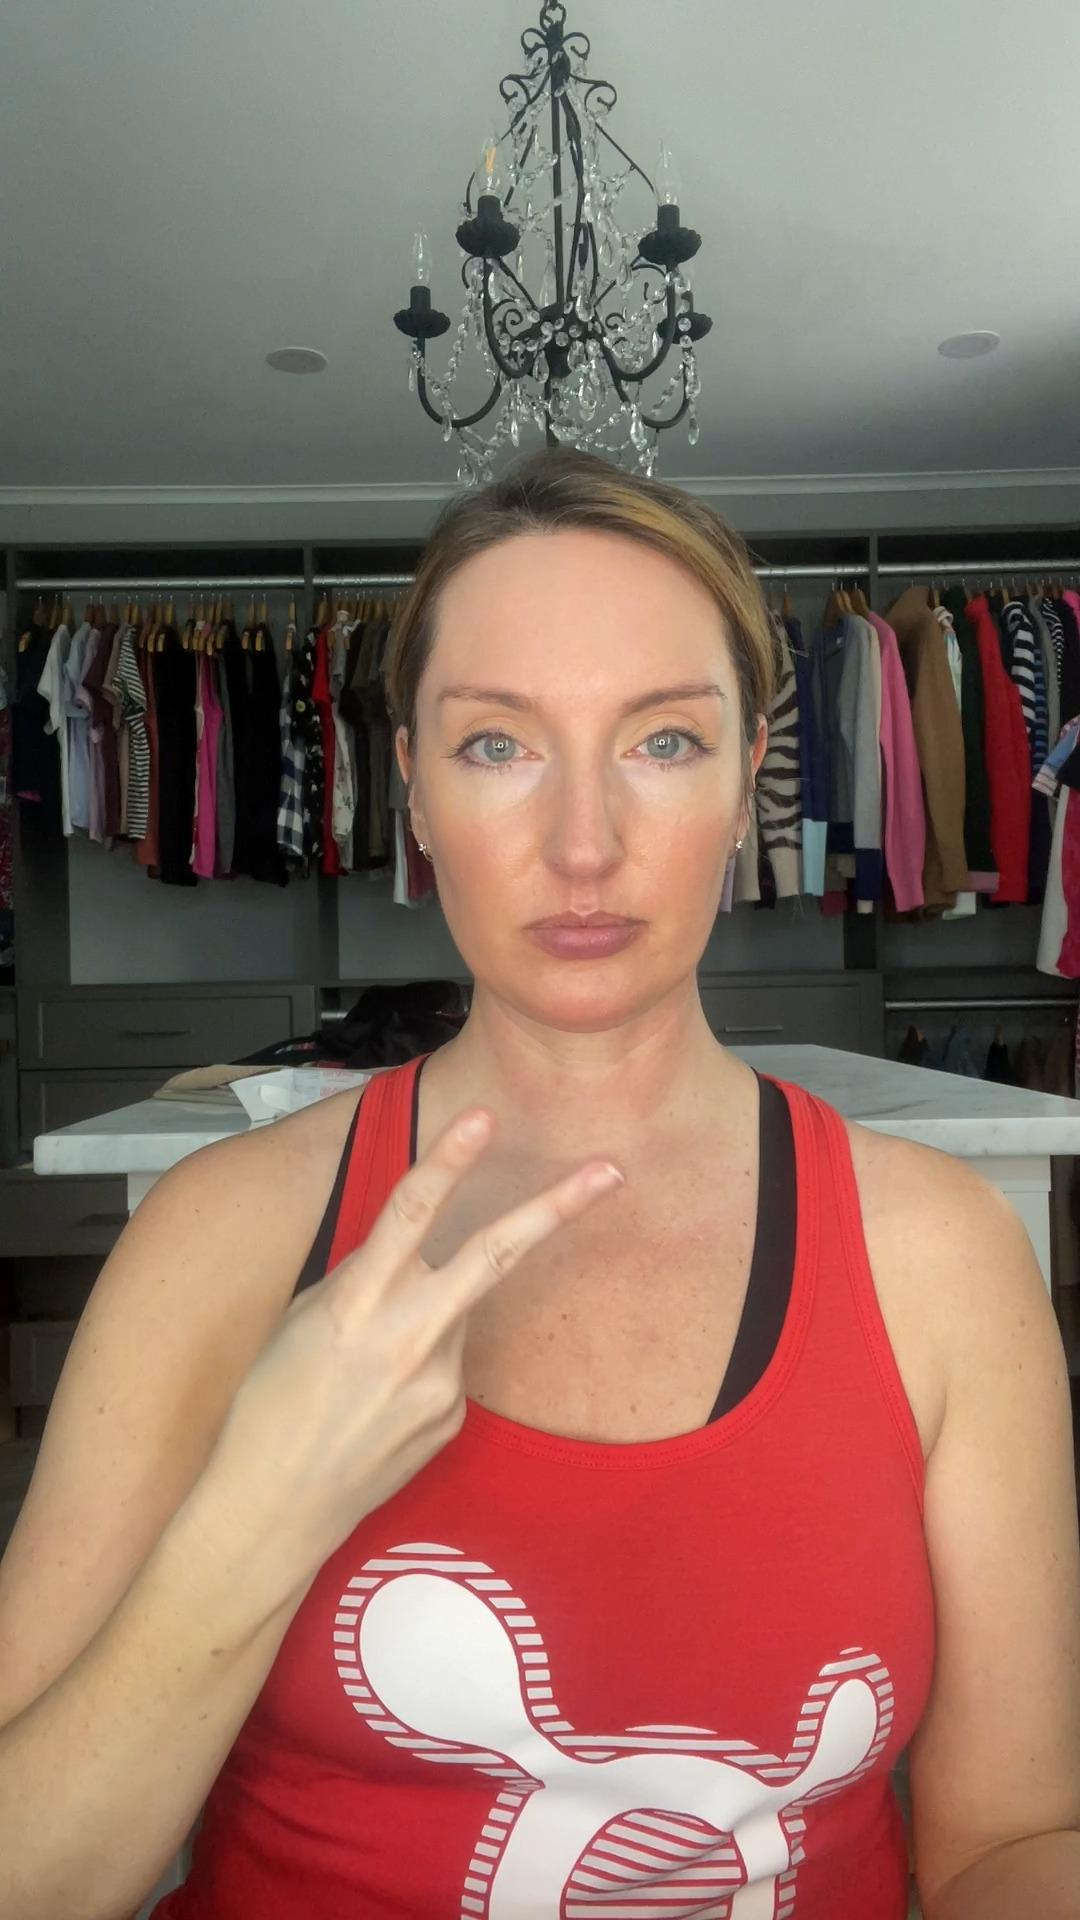Scissors: (233, 1110, 621, 1532)
